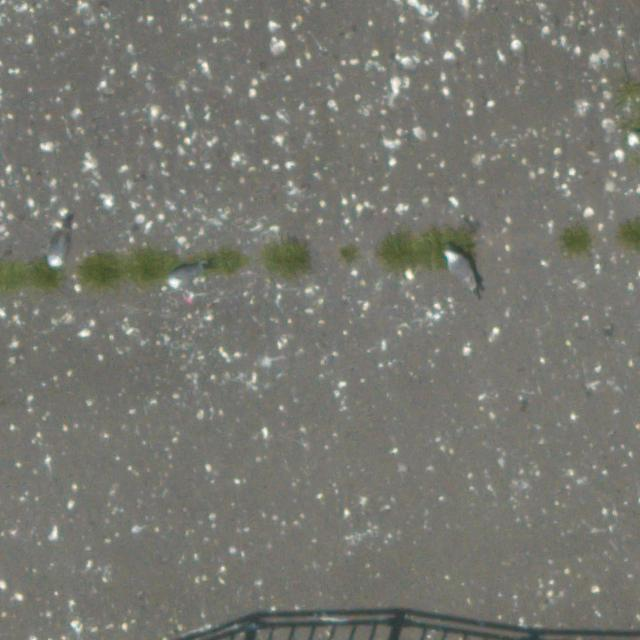umineko: (444, 245, 477, 295), (46, 216, 77, 268), (164, 262, 204, 290), (628, 133, 640, 153)
